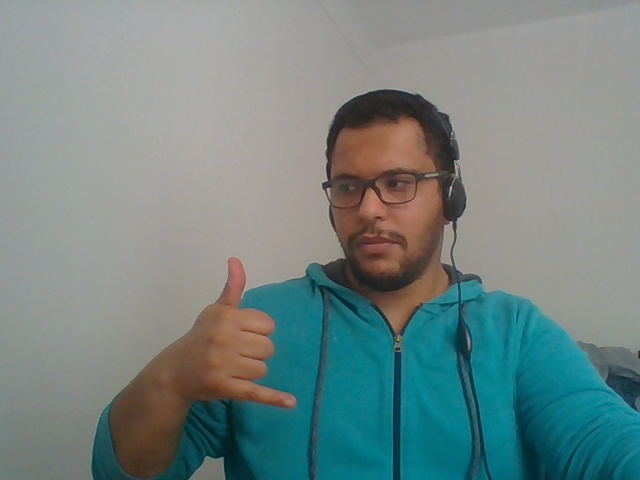callme: (82, 229, 308, 480)
